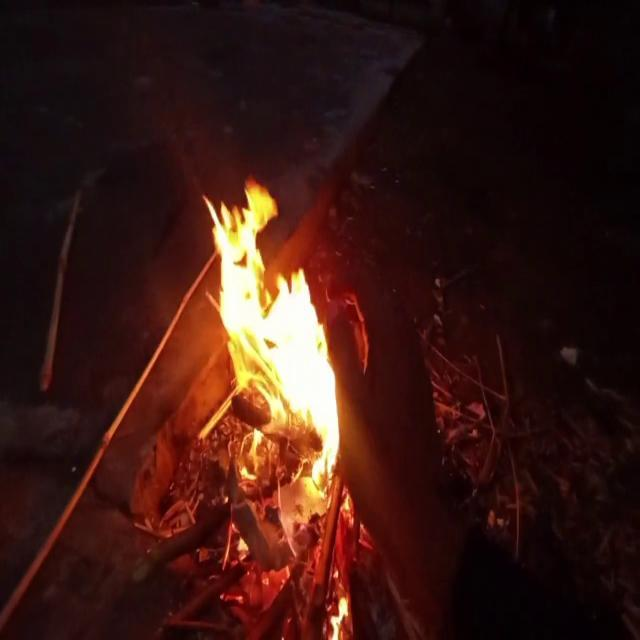Fire: (194, 168, 359, 540)
